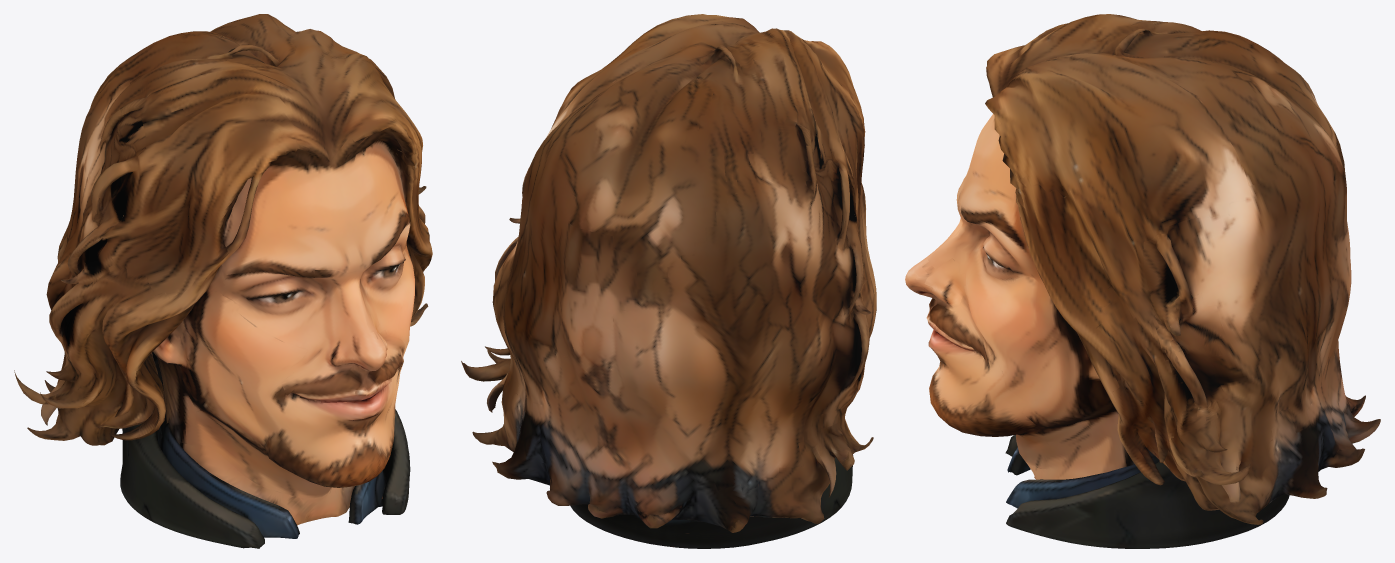
Rendered from steve_face.fbx.
3 views of the same model, side by side, from view 1: azimuth 30°, elevation 25°; view 2: azimuth 150°, elevation 25°; view 3: azimuth 270°, elevation 25° (orthographic). The views are drawn at different scales.
Visible parts, largest first — view 1: model; view 2: model; view 3: model.
Boxes of the visible parts, <box> form: model: <box>14,14,432,548</box>; model: <box>461,14,876,548</box>; model: <box>905,14,1380,548</box>.
Bounding box in the file's own units: 174 × 189 × 181.
